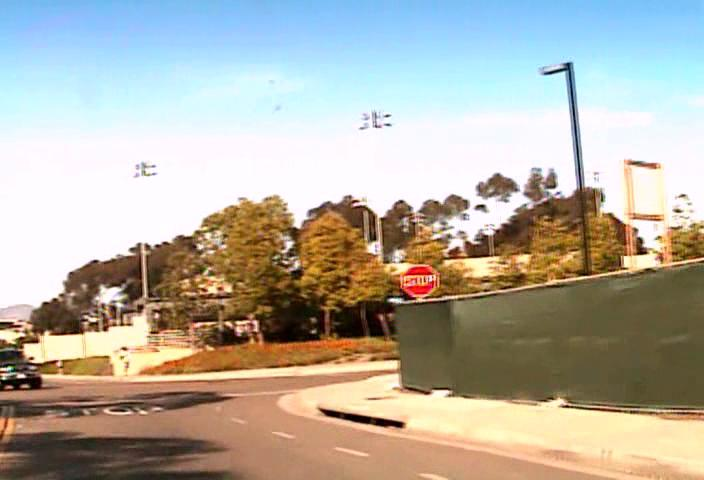stop: (401, 264, 438, 297)
